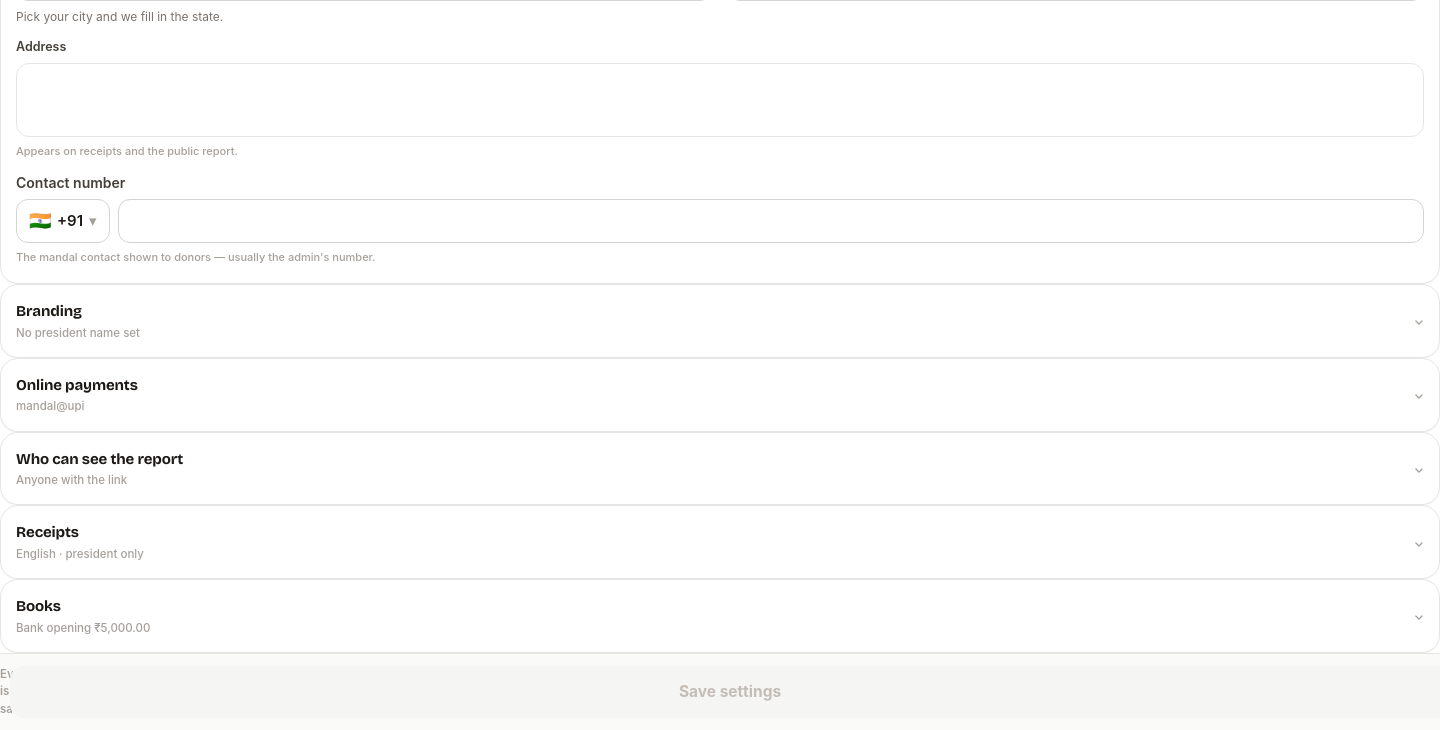
Test case: MandalConfigContent — the Settings tab › shows an error instead of a saved confirmation when updateMandal rejects
(page scrolled)
Click the button "Save settings": (725, 692) [10,666,1439,718]
(page scrolled)
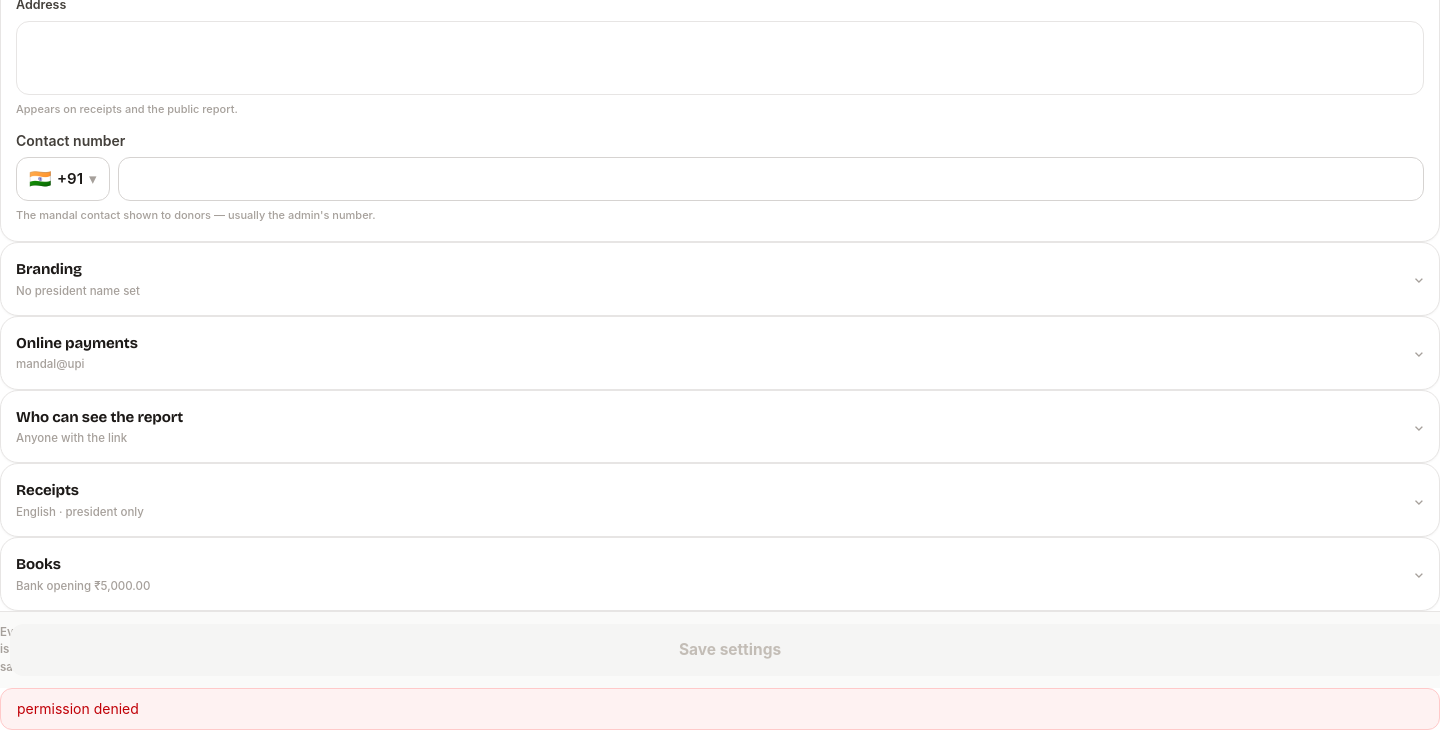
Expected: the message reads "permission denied", [17,700,139,717]
